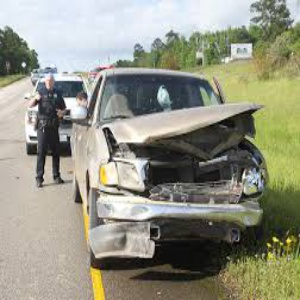bonnet: (115, 103, 268, 151)
bumper: (87, 209, 232, 262)
head_lights: (223, 160, 268, 205)
